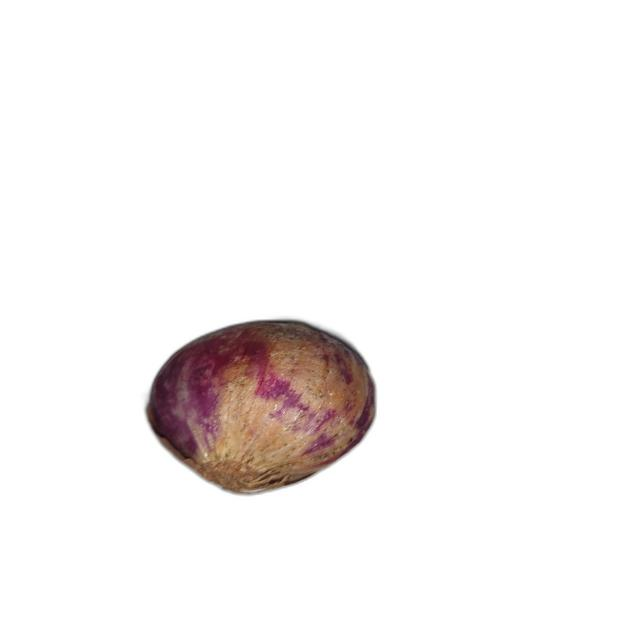onion: (145, 321, 377, 496)
